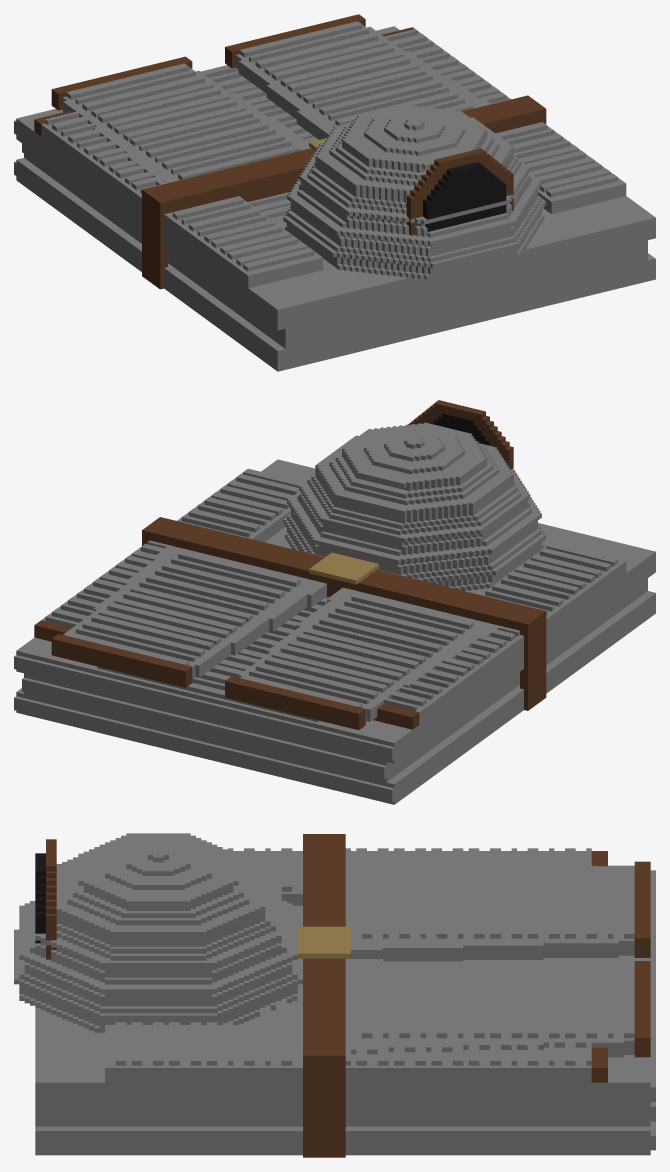
The model's file is lc_chainmail_suit.glb.
The picture shows the model from 3 angles, top to bottom: view 1: azimuth 30°, elevation 25°; view 2: azimuth 150°, elevation 25°; view 3: azimuth 270°, elevation 25°; orthographic projection. The views are drawn at different scales.
Parts seen in each view (by area): view 1: lc_chainmail_suit:compound; view 2: lc_chainmail_suit:compound; view 3: lc_chainmail_suit:compound.
Part boxes in pixels (x1,y1,x2,y2): lc_chainmail_suit:compound: (14,14,655,371); lc_chainmail_suit:compound: (14,400,655,804); lc_chainmail_suit:compound: (14,833,655,1157).
Size of the model in its own units: 0.392 by 0.16 by 0.48.
